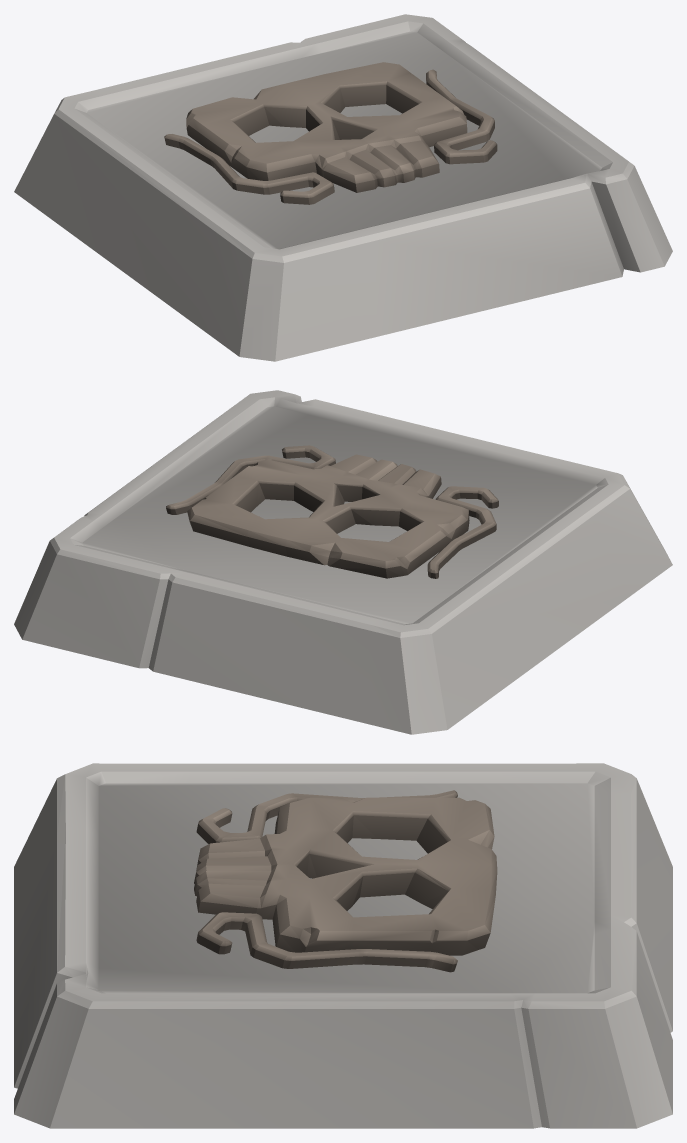
The model's file is floor_button_skull_B.FBX.
3 renders of one model, top to bottom at view 1: azimuth 30°, elevation 25°; view 2: azimuth 150°, elevation 25°; view 3: azimuth 270°, elevation 25°, orthographic. The views are drawn at different scales.
Parts seen in each view (by area): view 1: floor_button_skull_B; view 2: floor_button_skull_B; view 3: floor_button_skull_B.
Part boxes in pixels (x1,y1,x2,y2): floor_button_skull_B: (14,14,672,361); floor_button_skull_B: (14,390,672,734); floor_button_skull_B: (14,763,672,1128).
Size of the model in its own units: 1.52 by 0.3234 by 1.53.
